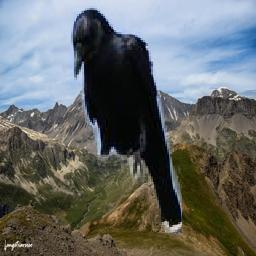Crow: (70, 6, 183, 236)
